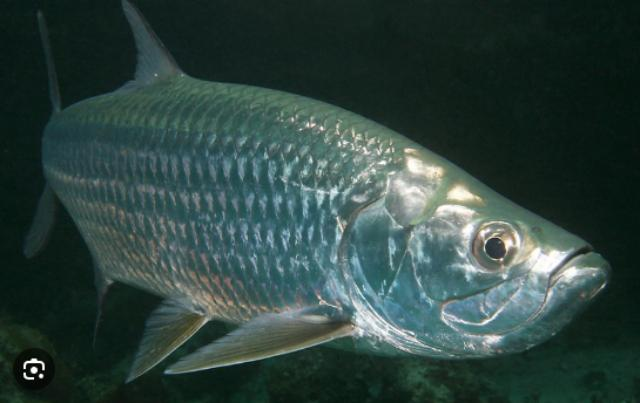Mulut: (539, 223, 621, 327)
Sirip Anal: (74, 249, 118, 354)
Sirip Dada: (159, 309, 349, 381)
Sirip Ekor: (18, 4, 60, 272)
Sirip Perut: (122, 300, 200, 390)
Sirip Punggung: (107, 2, 207, 102)
